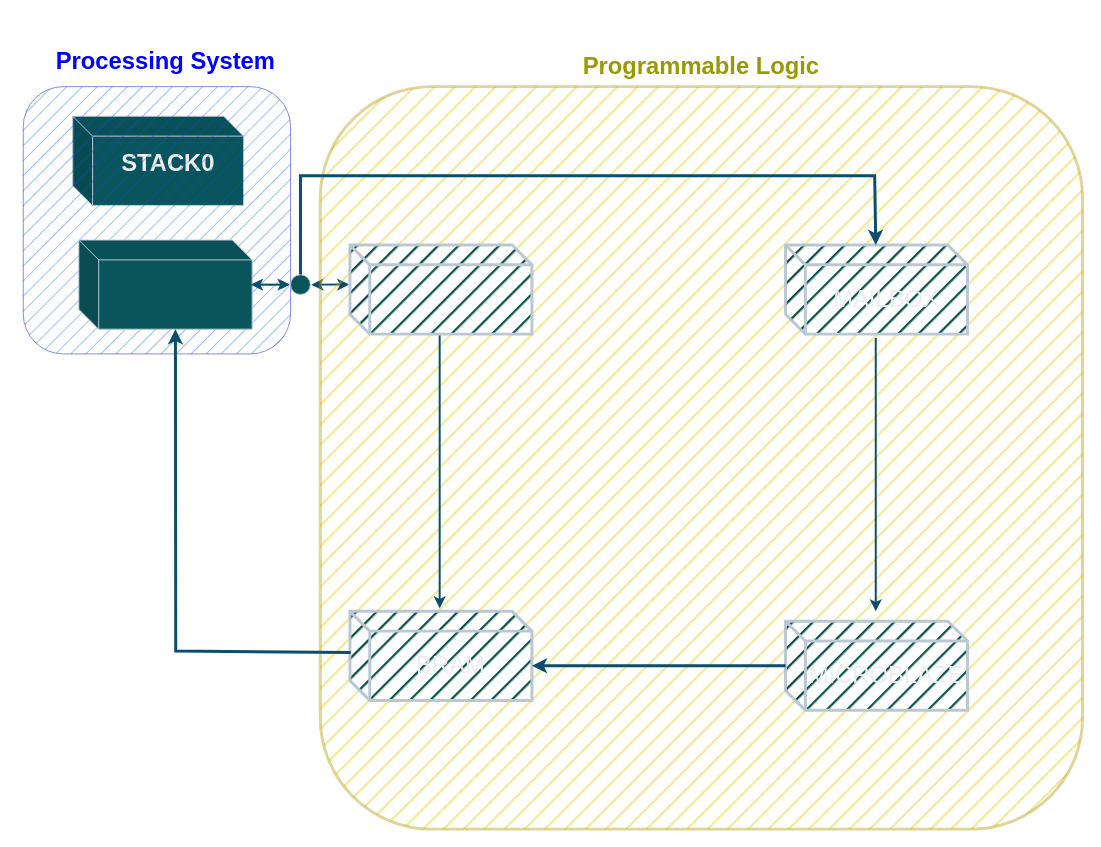
Image size: 1101x847. Some labels were removed from this diagram. Here are the shapes that lost their labels. From the top down, the centre of each, then its label:
At point 165,284: "ARM PROCESSOR".
At point 440,289: "MUTEX".
